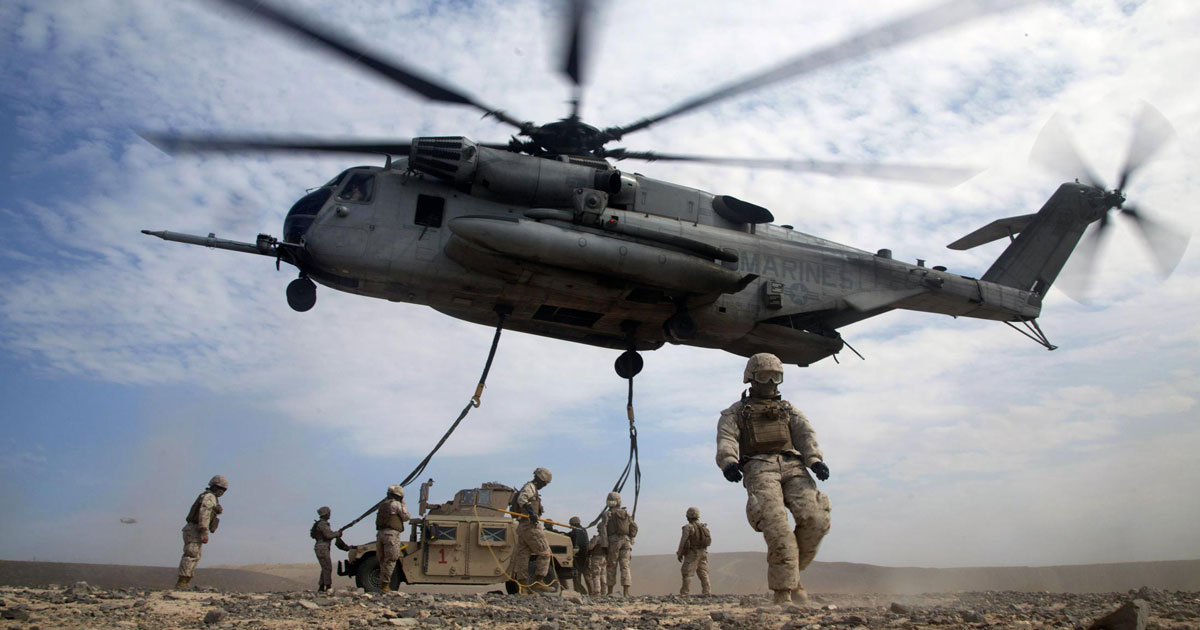MilitaryHelicopter: (159, 34, 1179, 337)
